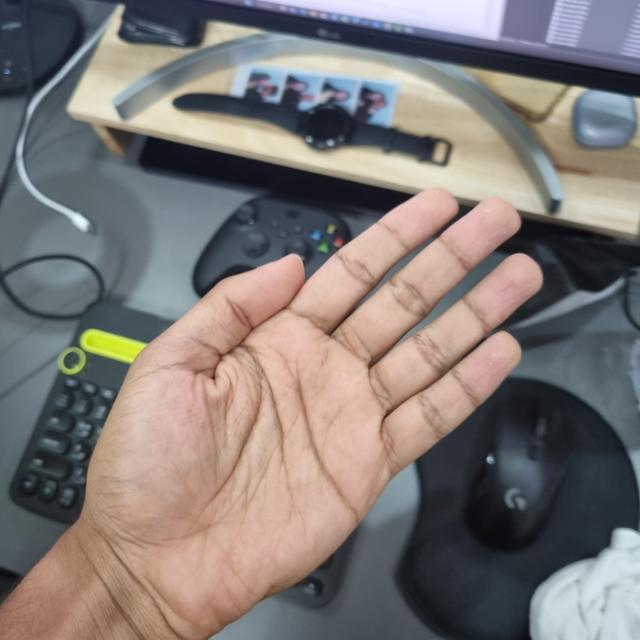Paper: (85, 190, 538, 633)
